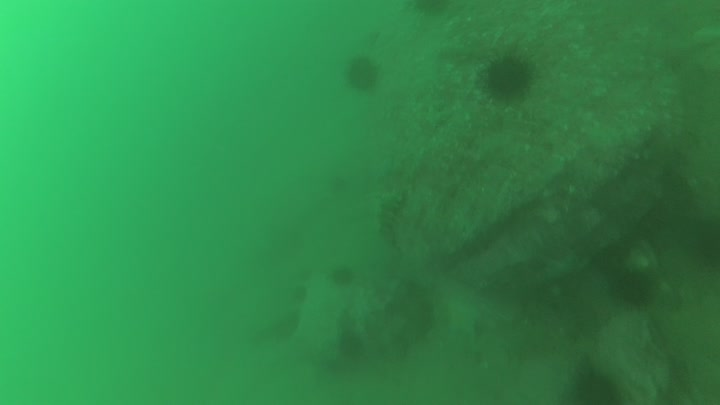echinus: (476, 52, 533, 102), (565, 363, 619, 405), (615, 267, 656, 312), (344, 54, 385, 93), (328, 264, 355, 287)
holothurian: (377, 188, 407, 251)
